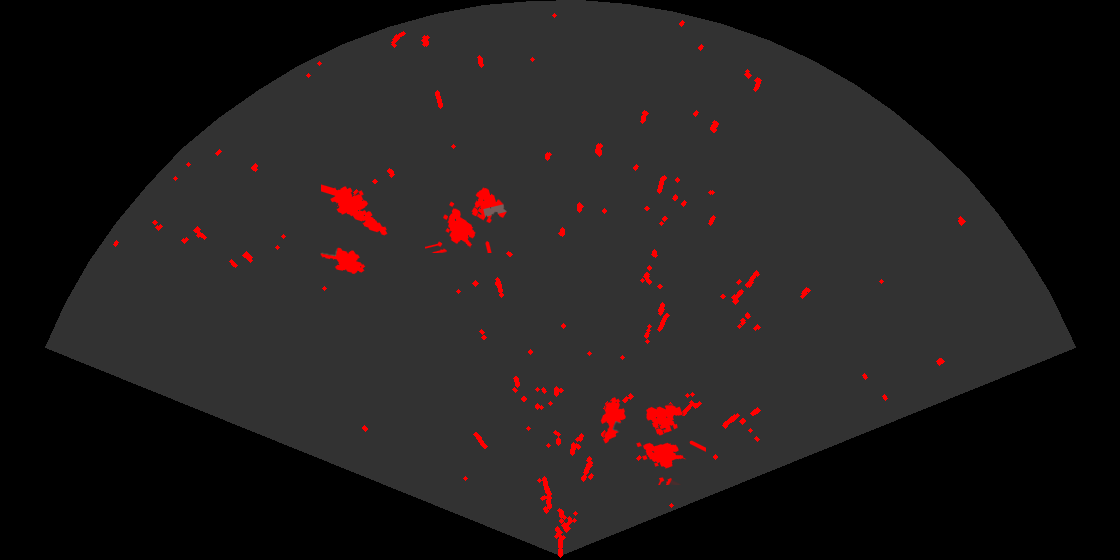AUV: (599, 395, 628, 445), (319, 246, 367, 276)
cage: (635, 403, 706, 485), (425, 186, 508, 253)
frogman: (321, 183, 389, 237)
